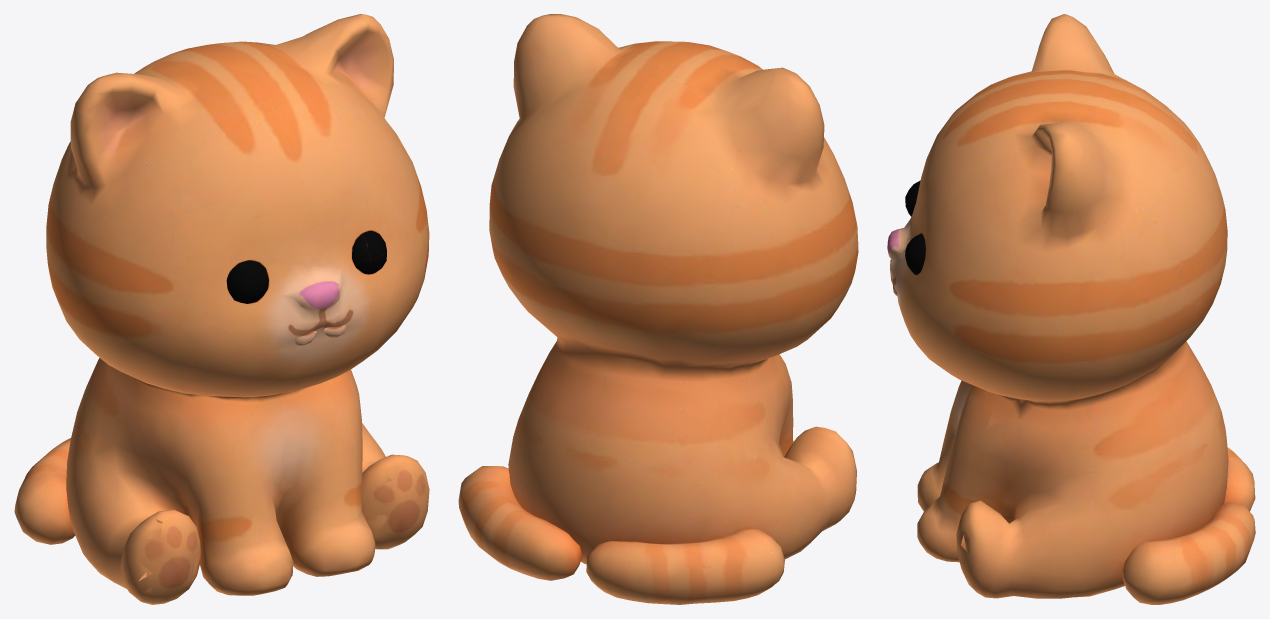
The model's file is pet-cat.glb.
3 views of the same model, side by side, from view 1: azimuth 30°, elevation 25°; view 2: azimuth 150°, elevation 25°; view 3: azimuth 270°, elevation 25° (orthographic). The views are drawn at different scales.
Visible parts, largest first — view 1: geometry_0; view 2: geometry_0; view 3: geometry_0.
Part boxes in pixels (x1,y1,x2,y2): geometry_0: (14,14,429,604); geometry_0: (458,14,858,604); geometry_0: (887,14,1255,604).
Bounding box in the file's own units: 0.7131 × 1 × 0.7133.
Materials: 1 (1 with a texture image).
